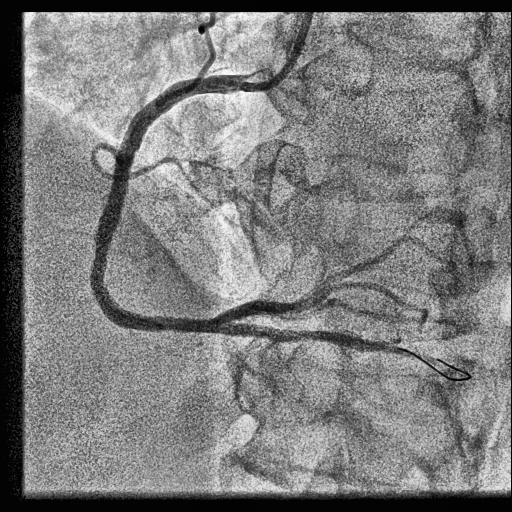pborca: (216, 234, 439, 325)
pda: (216, 325, 458, 370)
rca: (89, 74, 234, 333)
